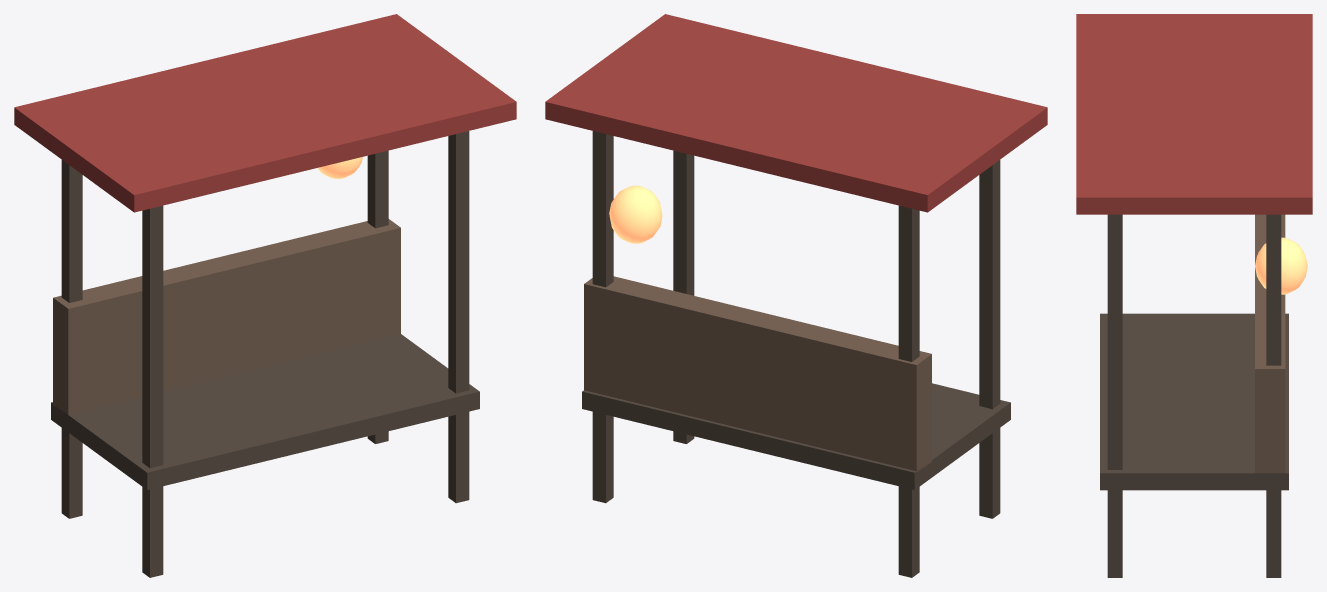
The model's file is prop_yatai_frame.glb.
3 renders of one model, left to right at view 1: azimuth 30°, elevation 25°; view 2: azimuth 150°, elevation 25°; view 3: azimuth 270°, elevation 25°, orthographic.
Visible parts, largest first — view 1: yatai_frame; view 2: yatai_frame; view 3: yatai_frame.
Boxes of the visible parts, x1,y1,x2,y2 form: yatai_frame: (14, 14, 516, 577); yatai_frame: (545, 14, 1047, 577); yatai_frame: (1076, 14, 1312, 577).
Size of the model in its own units: 2.3 by 2.31 by 1.25.
